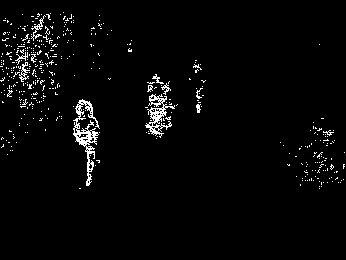person: (70, 98, 102, 189)
